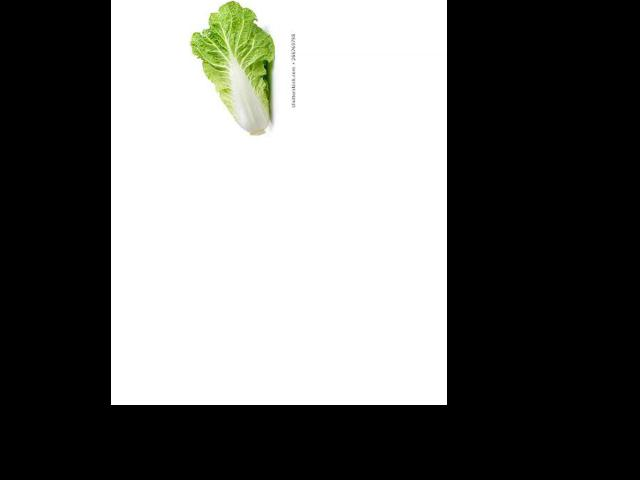lettuce: (194, 15, 269, 131)
